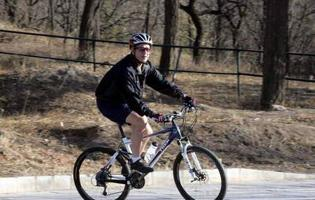person: (96, 34, 197, 174)
